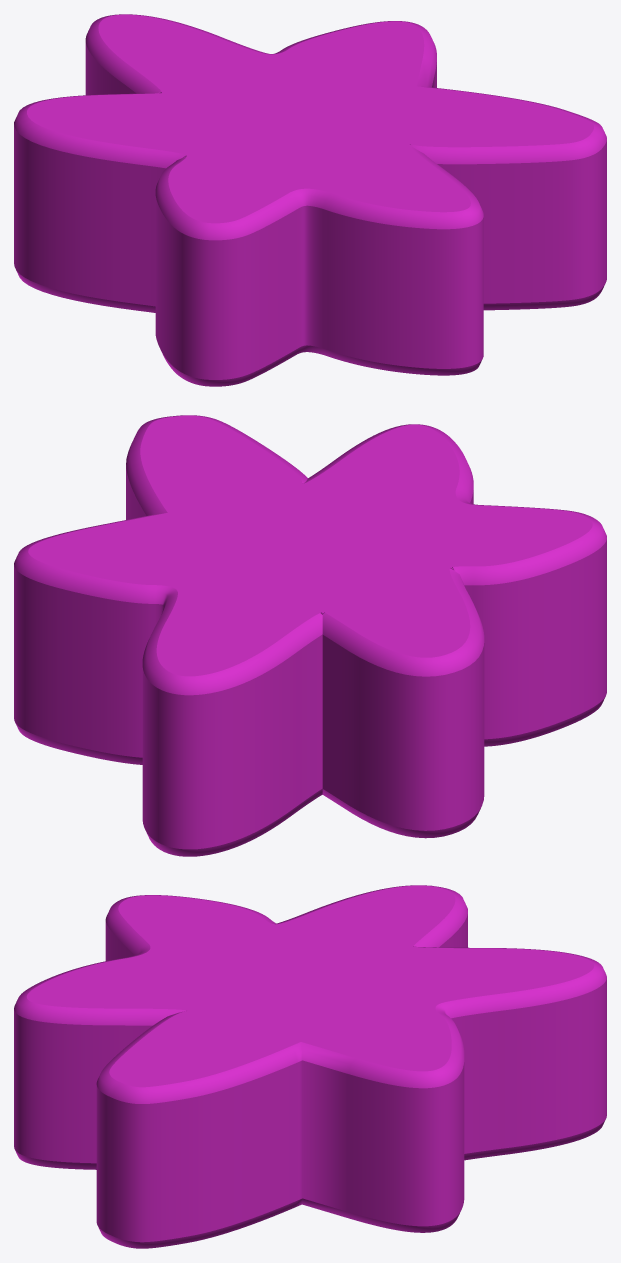
Rendered from Bubble_Asterisk.fbx.
3 views of the same model, one above another, from view 1: azimuth 30°, elevation 25°; view 2: azimuth 150°, elevation 25°; view 3: azimuth 270°, elevation 25° (orthographic). The views are drawn at different scales.
Visible parts, largest first — view 1: BubbleAsterisk; view 2: BubbleAsterisk; view 3: BubbleAsterisk.
Part boxes in pixels (<box>): BubbleAsterisk: <box>14,14,606,386</box>; BubbleAsterisk: <box>14,415,606,856</box>; BubbleAsterisk: <box>14,885,606,1248</box>.
Bounding box in the file's own units: 0.3959 × 0.14 × 0.4672.
